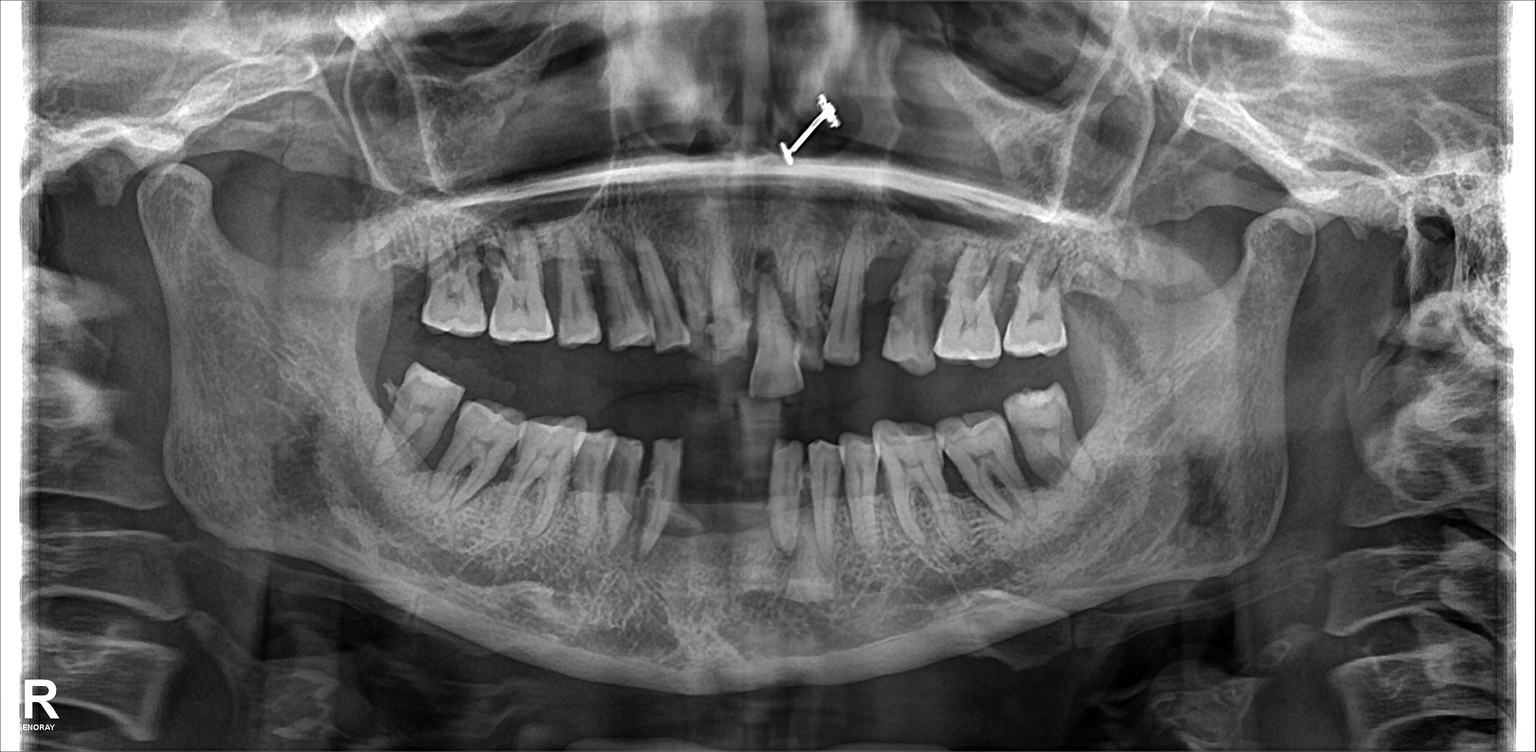Dental Caries: (790, 318, 825, 352)
Missing Tooth: (730, 445, 778, 566), (1054, 251, 1108, 343), (363, 342, 411, 444), (1071, 370, 1120, 460), (385, 246, 432, 335), (682, 462, 721, 562), (868, 244, 894, 356)
